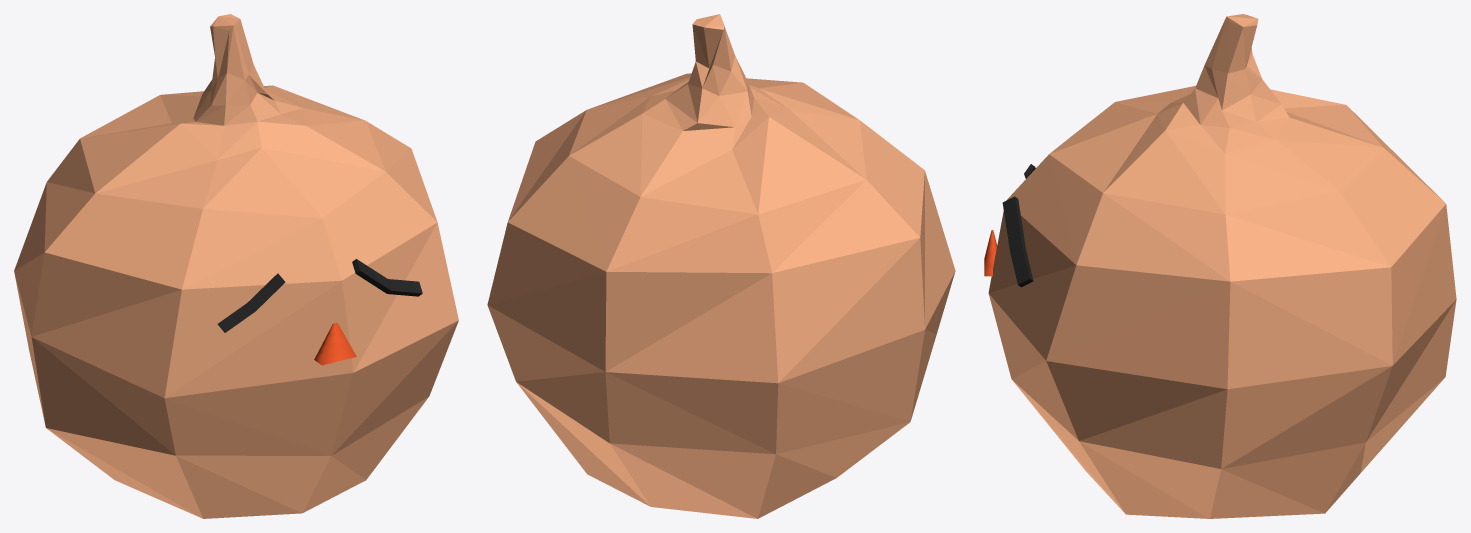
Rendered from Onion_withface.fbx.
3 renders of one model, left to right at view 1: azimuth 30°, elevation 25°; view 2: azimuth 150°, elevation 25°; view 3: azimuth 270°, elevation 25°, orthographic. The views are drawn at different scales.
Parts seen in each view (by area): view 1: Onion_withface; view 2: Onion_withface; view 3: Onion_withface.
Boxes of the visible parts, bbox=[...] form: Onion_withface: bbox=[14, 14, 458, 518]; Onion_withface: bbox=[487, 14, 955, 518]; Onion_withface: bbox=[984, 14, 1456, 518].
Size of the model in its own units: 62.85 by 62.12 by 70.32.
Materials: 1 (1 with a texture image).
